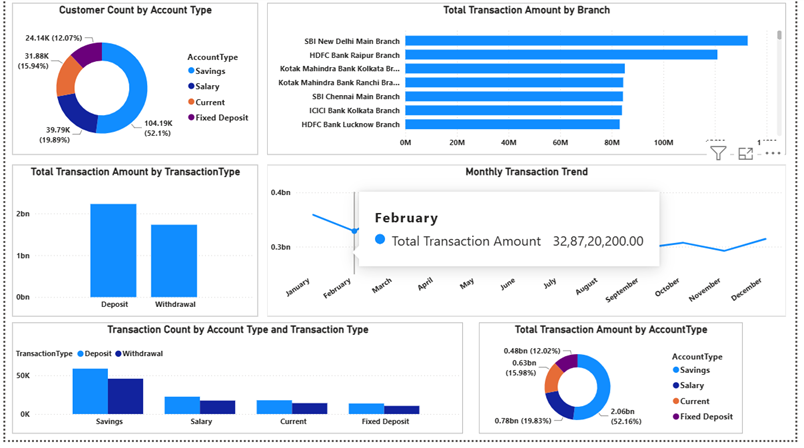

Layout of this report page (visuals, bound fields, positions):
{"tool":"powerbi","page":{"name":"Page 1","canvas":[1280,720],"ordinal":2},"visuals":[{"type":"donutChart","title":"Customer Count by Account Type","fields":{"Category":["Account.AccountType"],"Y":["CountNonNull(Account.CustomerID)"]},"box":[11.3,11.3,398.3,246.1],"z":0},{"type":"clusteredColumnChart","fields":{"Y":["Account.Total Transaction Amount"],"Category":["Account.TransactionType"]},"box":[11,274,398,246],"z":1},{"type":"clusteredBarChart","title":"Total Transaction Amount by Branch","fields":{"Category":["Branch.BranchName"],"Y":["Account.Total Transaction Amount"]},"box":[424.2,11.3,840.4,246.1],"z":2},{"type":"lineChart","title":"Monthly Transaction Trend","fields":{"Category":["DateDim.Month"],"Y":["Account.Total Transaction Amount"]},"box":[424.2,273.6,840.4,246.1],"z":3},{"type":"clusteredColumnChart","title":"Transaction Count by Account Type and Transaction Type","fields":{"Category":["Account.AccountType"],"Y":["Account.Transaction Count"],"Series":["Account.TransactionType"]},"box":[11.3,529.5,730.3,179.7],"z":4},{"type":"donutChart","fields":{"Y":["Account.Total Transaction Amount"],"Category":["Account.AccountType"]},"box":[767.5,529.5,427.5,179.7],"z":5}]}

Visuals, with their boxes in screenshot pixels (x1, y1, x2, y2), scaled from the page's 1280x720 canvas onto the 804x448 screenshot:
"Customer Count by Account Type" donutChart: [7,7,257,160]
clusteredColumnChart - Account.Total Transaction Amount x Account.TransactionType: [7,170,257,324]
"Total Transaction Amount by Branch" clusteredBarChart: [266,7,794,160]
"Monthly Transaction Trend" lineChart: [266,170,794,323]
"Transaction Count by Account Type and Transaction Type" clusteredColumnChart: [7,329,466,441]
donutChart - Account.Total Transaction Amount x Account.AccountType: [482,329,751,441]
